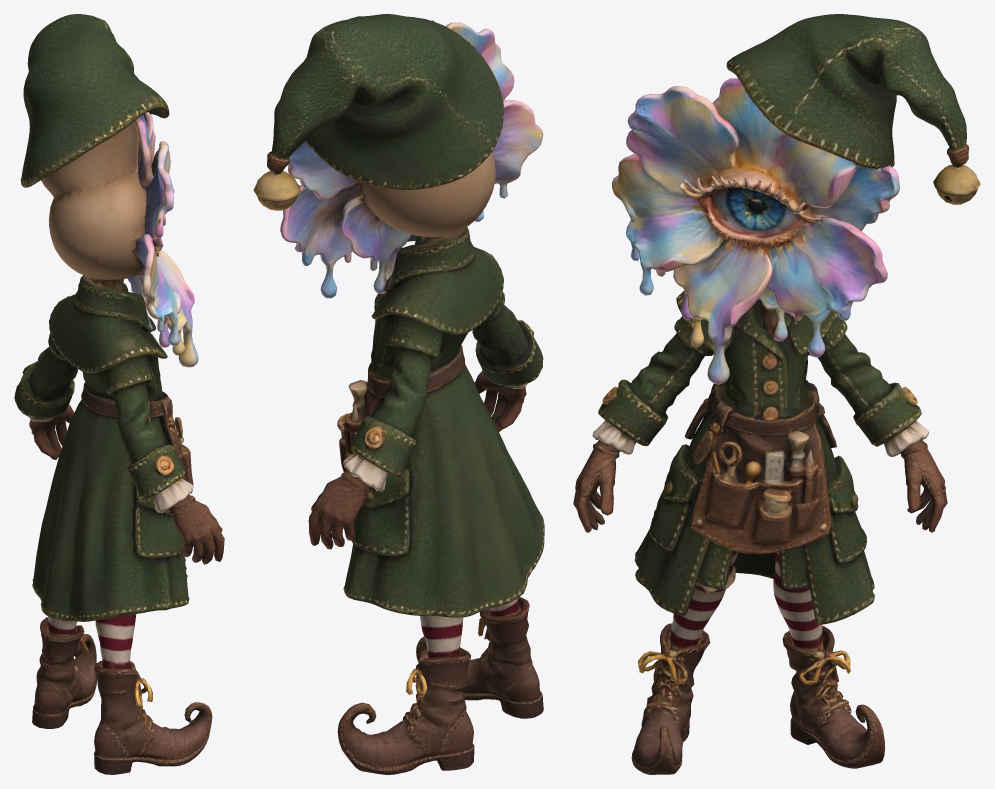
The model's file is lt_elf.glb.
3 renders of one model, left to right at view 1: azimuth 30°, elevation 25°; view 2: azimuth 150°, elevation 25°; view 3: azimuth 270°, elevation 25°, orthographic. The views are drawn at different scales.
Parts seen in each view (by area): view 1: tripo_node_96a1318f-813a-4cf8-9b6e-bf6c11dfaa2c; view 2: tripo_node_96a1318f-813a-4cf8-9b6e-bf6c11dfaa2c; view 3: tripo_node_96a1318f-813a-4cf8-9b6e-bf6c11dfaa2c.
Boxes of the visible parts, box(x1,y1,x2,y2) form: tripo_node_96a1318f-813a-4cf8-9b6e-bf6c11dfaa2c: box(14, 14, 224, 774); tripo_node_96a1318f-813a-4cf8-9b6e-bf6c11dfaa2c: box(253, 14, 544, 774); tripo_node_96a1318f-813a-4cf8-9b6e-bf6c11dfaa2c: box(573, 14, 980, 774).
Size of the model in its own units: 0.2449 by 1 by 0.4927.
Materials: 1 (1 with a texture image).
